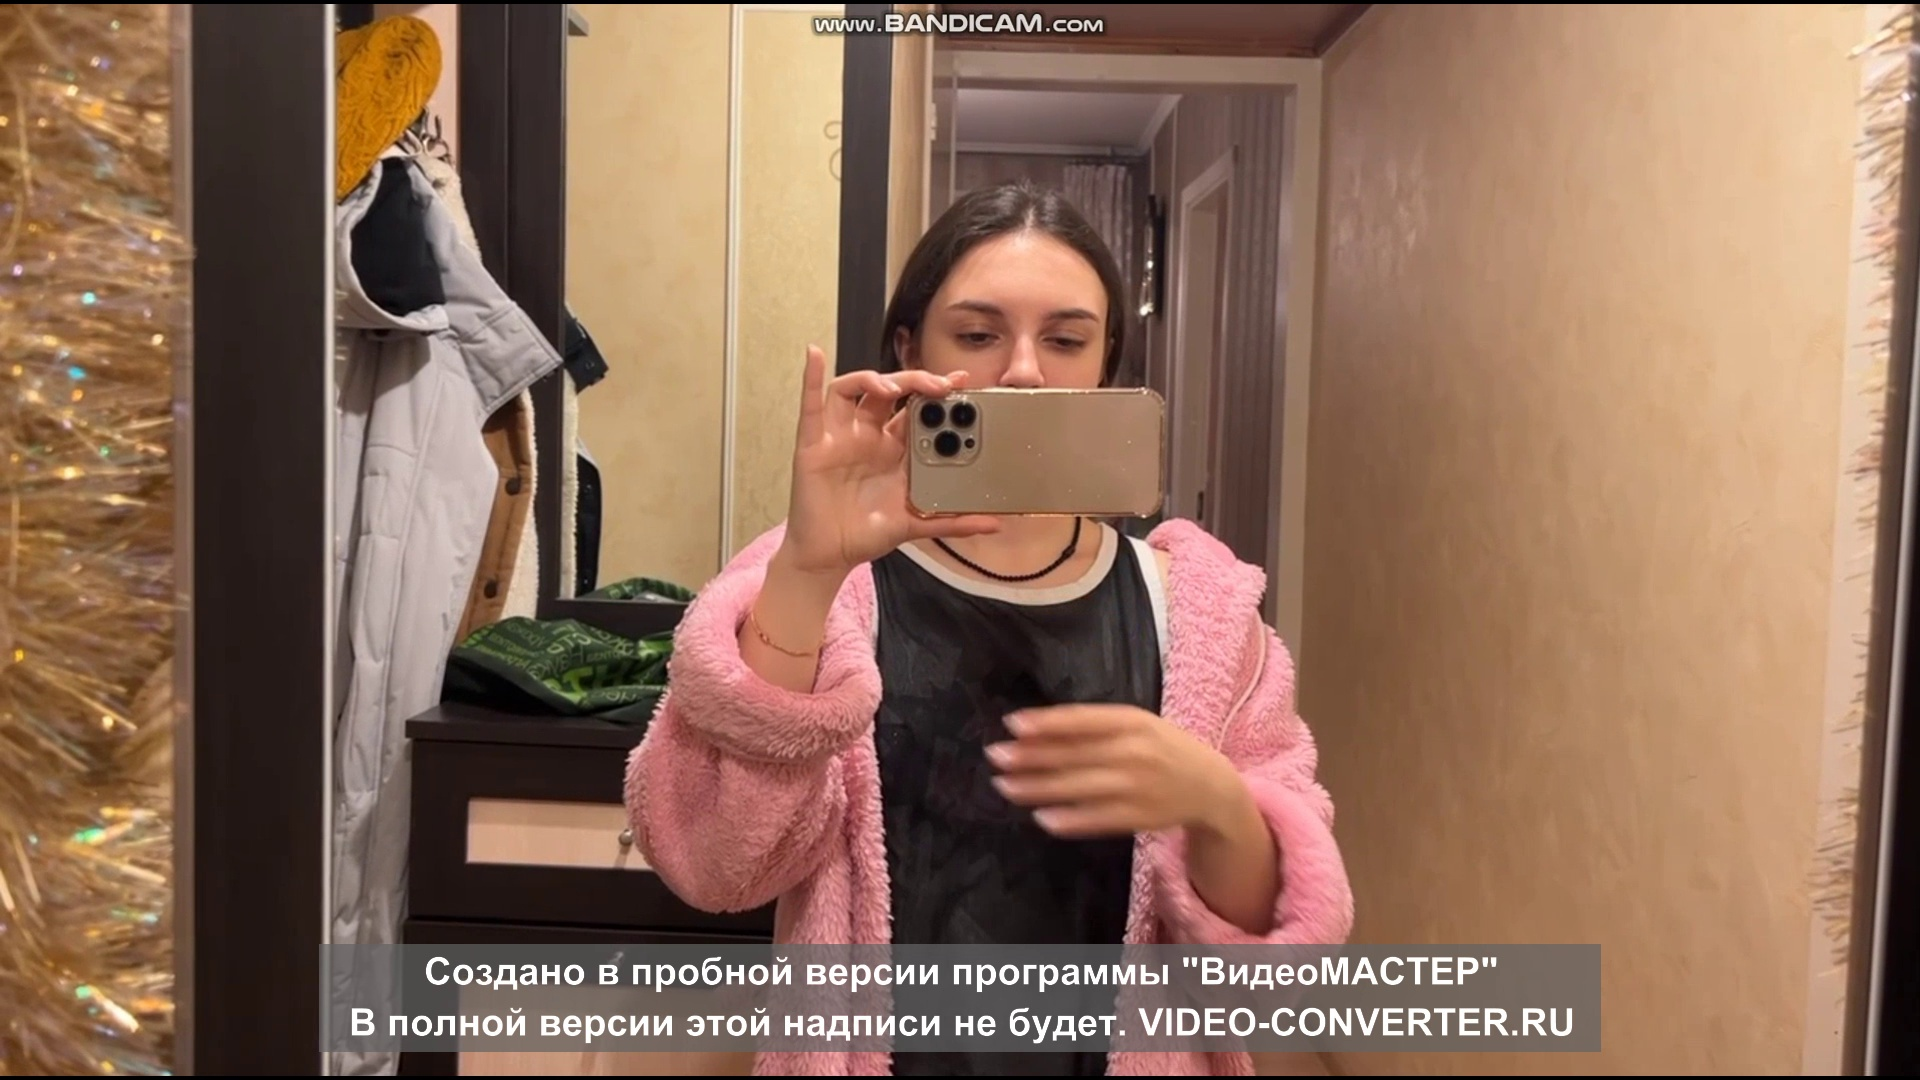Кисть: (981, 700, 1205, 832)
